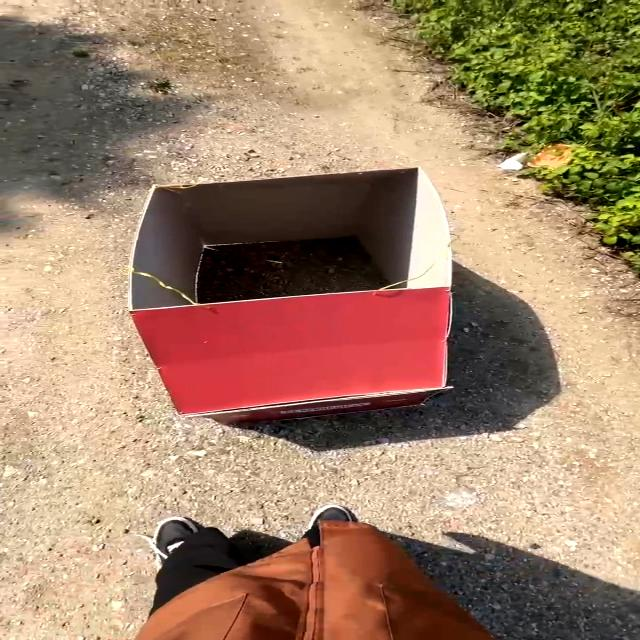red_car: (54, 150, 468, 458)
